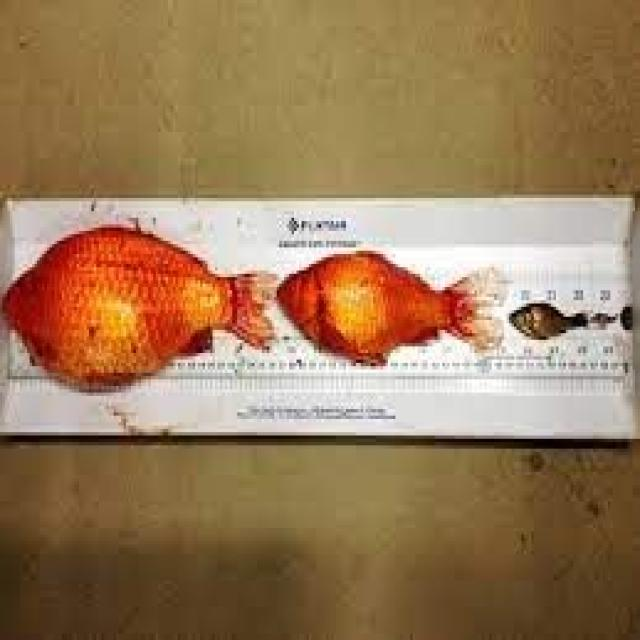Gold-Fish: (0, 139, 274, 455), (289, 170, 506, 432)
